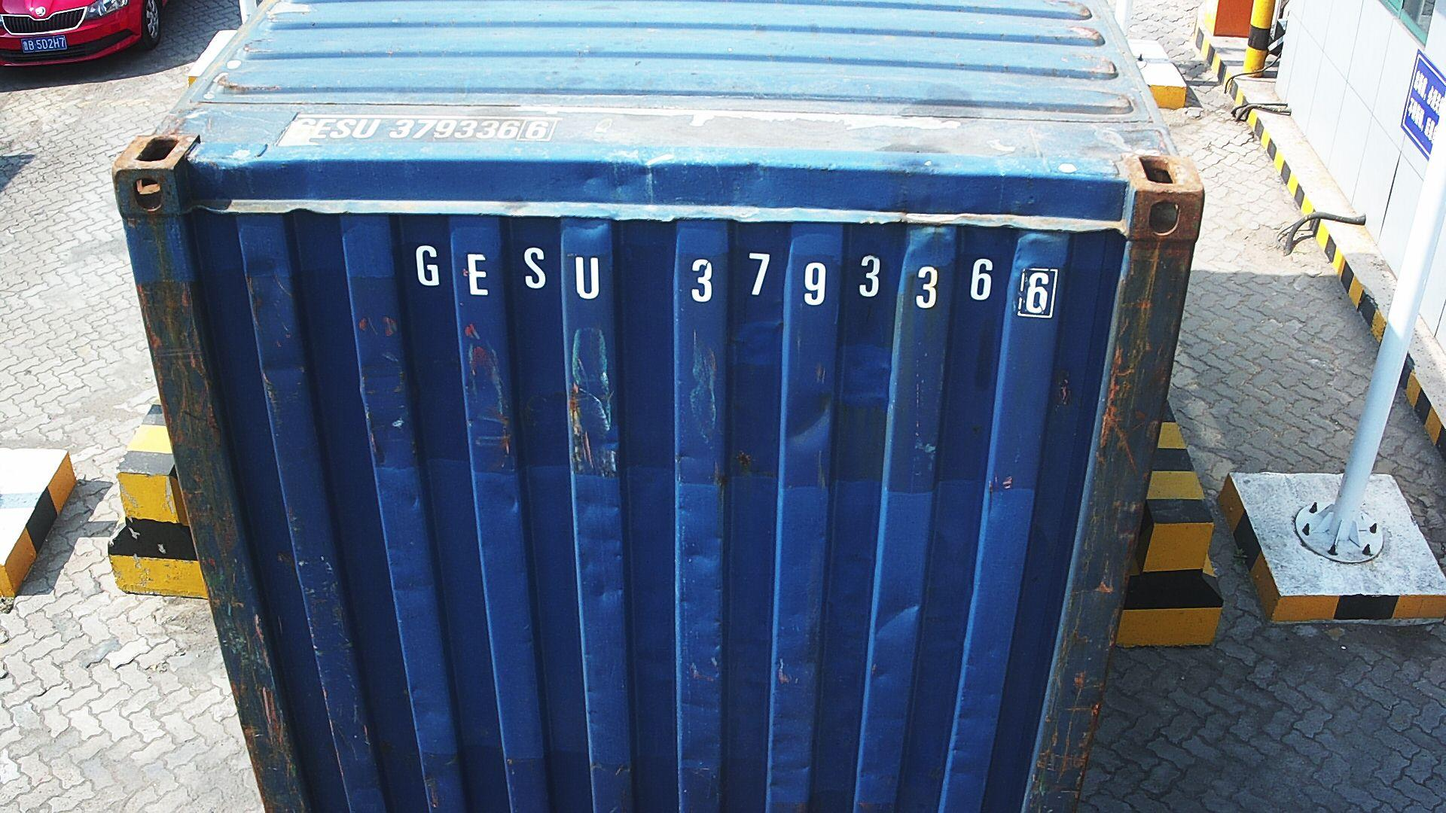container-numbers: (409, 241, 1062, 324), (281, 114, 560, 146)
